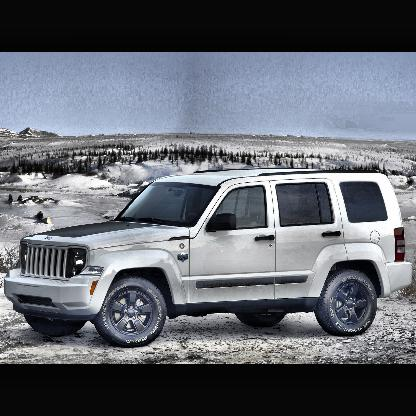Jeep Liberty SUV 2012: (2, 168, 415, 350)
